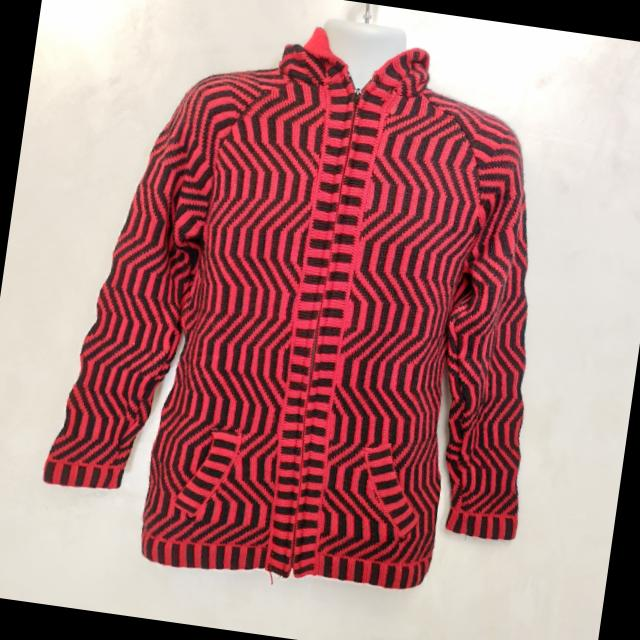Chompa: (32, 0, 583, 615)
